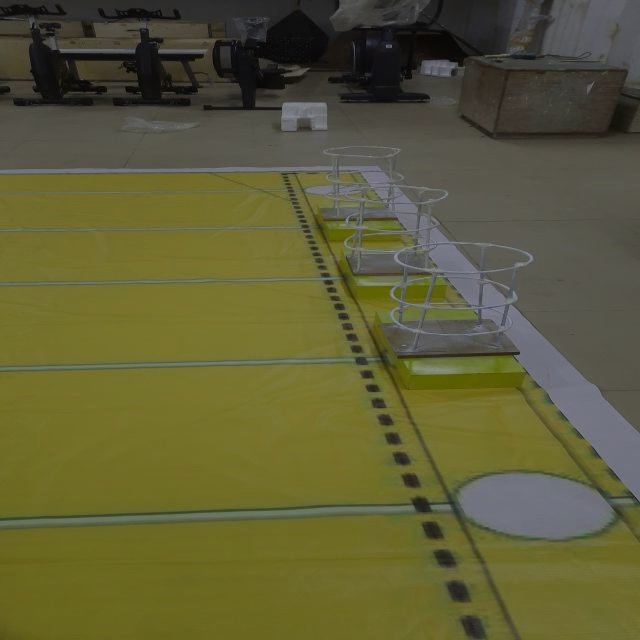silo: (379, 236, 549, 363), (315, 176, 467, 286), (305, 135, 415, 225)
